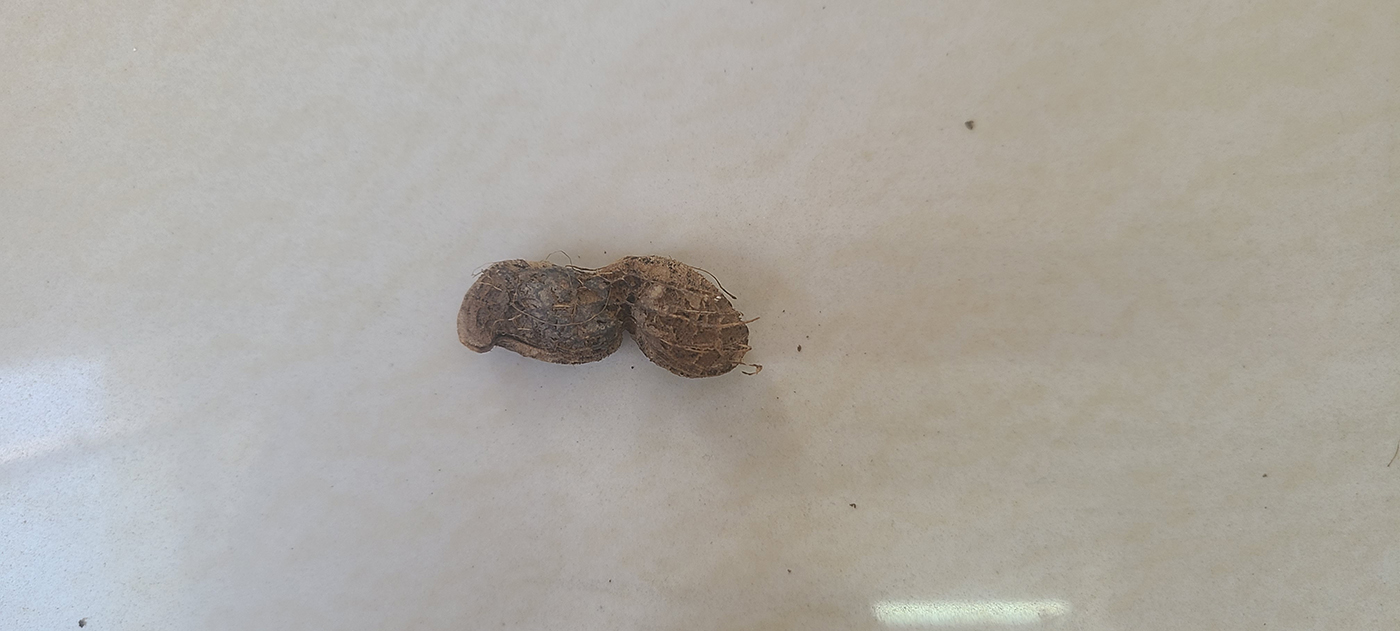l: (455, 255, 749, 379)
